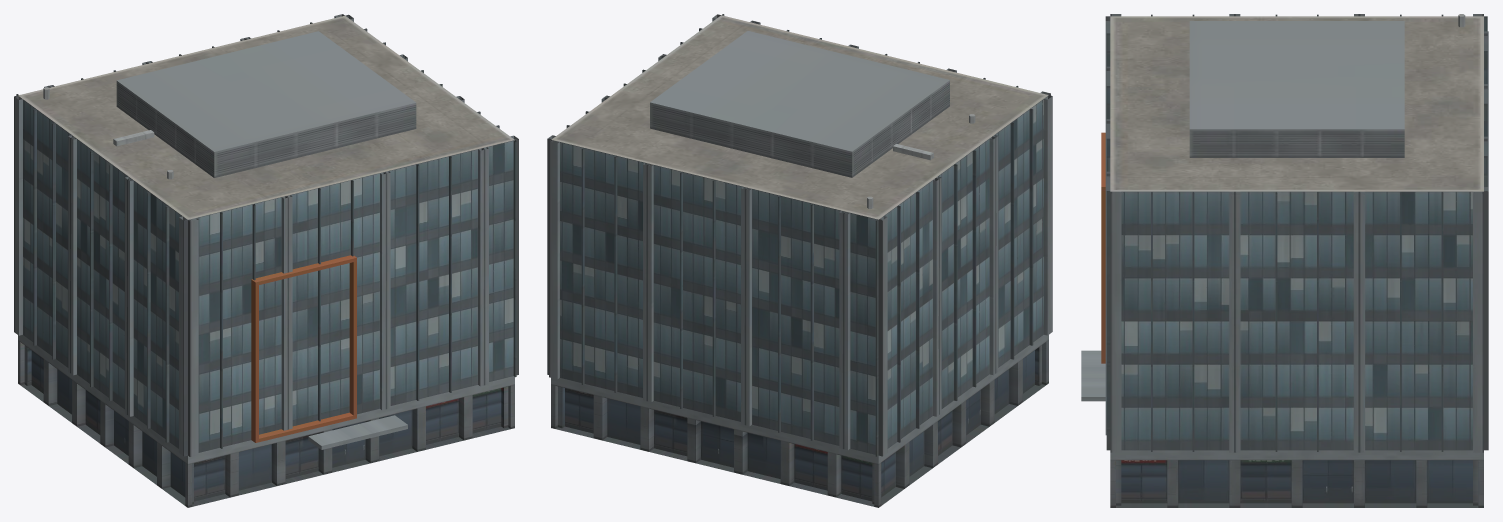
File: sf_midrise_c.glb
The picture shows the model from 3 angles, left to right: view 1: azimuth 30°, elevation 25°; view 2: azimuth 150°, elevation 25°; view 3: azimuth 270°, elevation 25°; orthographic projection. The views are drawn at different scales.
Parts seen in each view (by area): view 1: sf_midrise_c; view 2: sf_midrise_c; view 3: sf_midrise_c.
Part boxes in pixels (left/top/right/bottom): sf_midrise_c: left=14, top=14, right=518, bottom=507; sf_midrise_c: left=547, top=14, right=1052, bottom=507; sf_midrise_c: left=1081, top=14, right=1488, bottom=507.
Size of the model in its own units: 34.8 by 31.2 by 33.4.
1 material, 1 textured.
